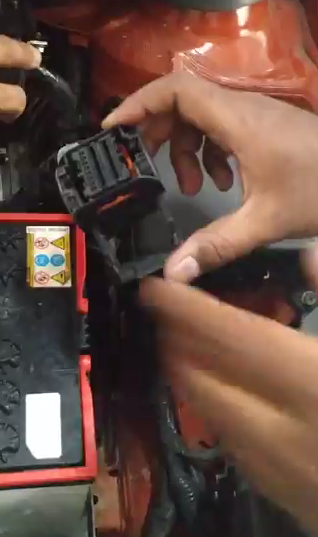connector: (49, 114, 209, 284)
